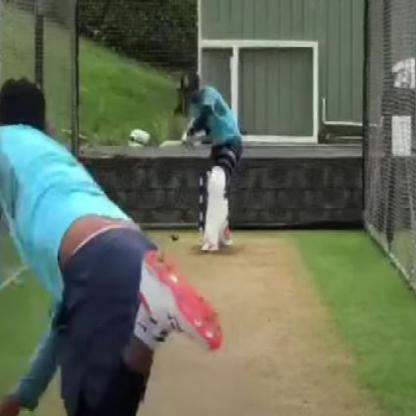ball: (170, 227, 184, 245)
